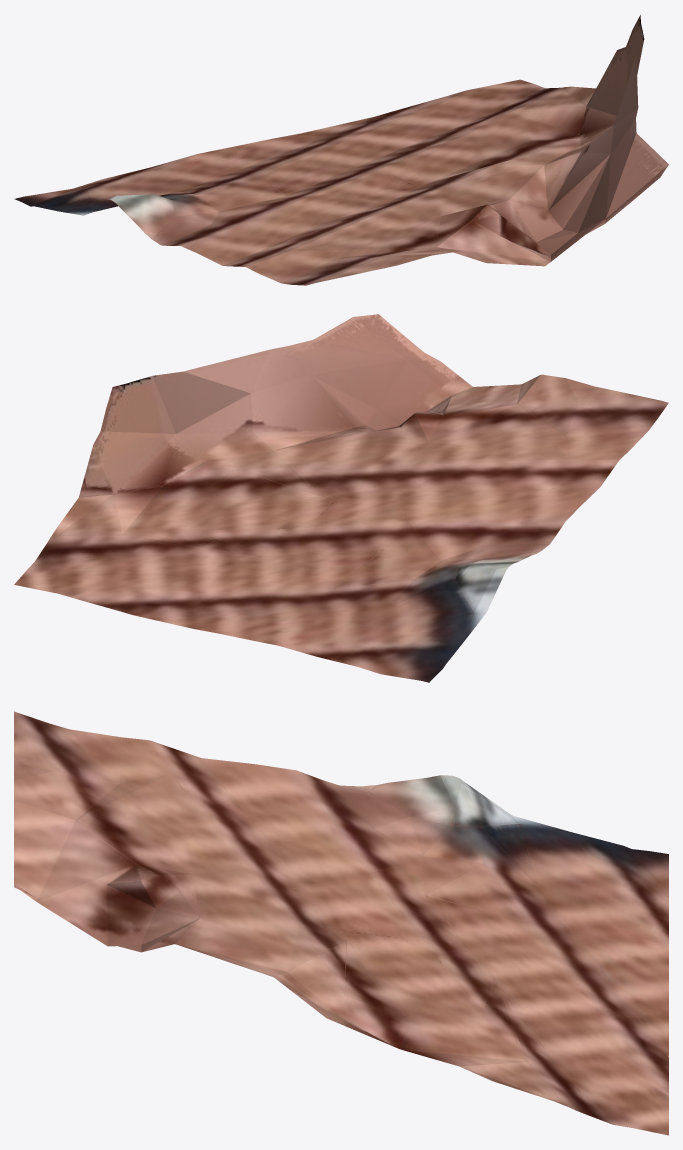
The picture shows the model from 3 angles, top to bottom: view 1: azimuth 30°, elevation 25°; view 2: azimuth 150°, elevation 25°; view 3: azimuth 270°, elevation 25°; orthographic projection. The views are drawn at different scales.
Bounding box in the file's own units: 1.67 × 0.4893 × 1.67.
Materials: 2 (2 with a texture image).
